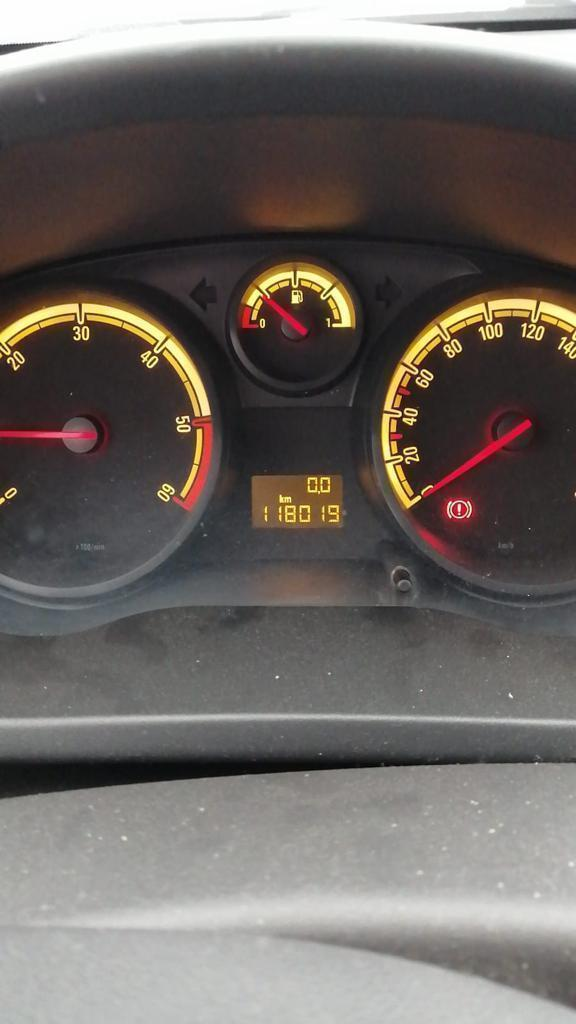,: (317, 490, 320, 495)
0: (298, 503, 311, 523), (319, 475, 330, 493), (307, 476, 317, 493)
1: (263, 504, 269, 523), (320, 504, 325, 523), (277, 505, 282, 522)
8: (284, 504, 296, 523)
9: (327, 504, 339, 523)
X: (284, 495, 292, 503), (278, 493, 284, 503)
odometer: (249, 472, 346, 530)
